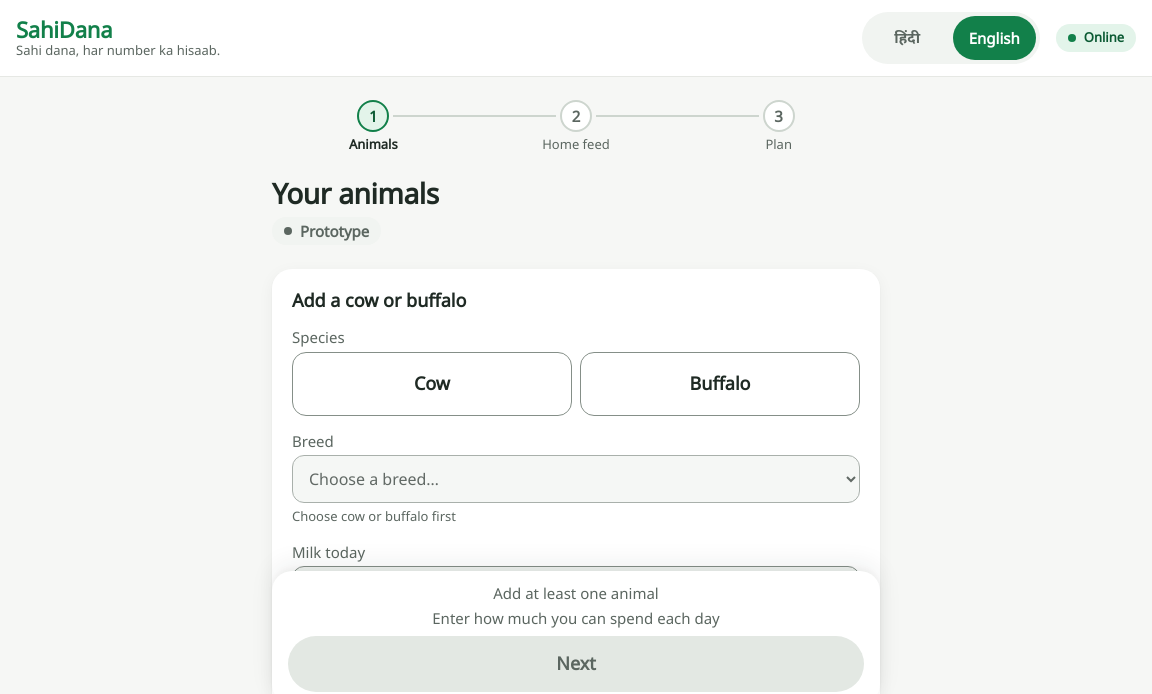
Test: herdUi (Change 4 Milestone 1 UI and 3-screen flow) › Screen 1 gating lines and Next button › shows only budget gating reason when animal is added but budget is missing
// Add buffalo: select species, breed, enter milk, submit
Step 1. Click the button "Buffalo" → (720, 384), box [580,352,860,416]
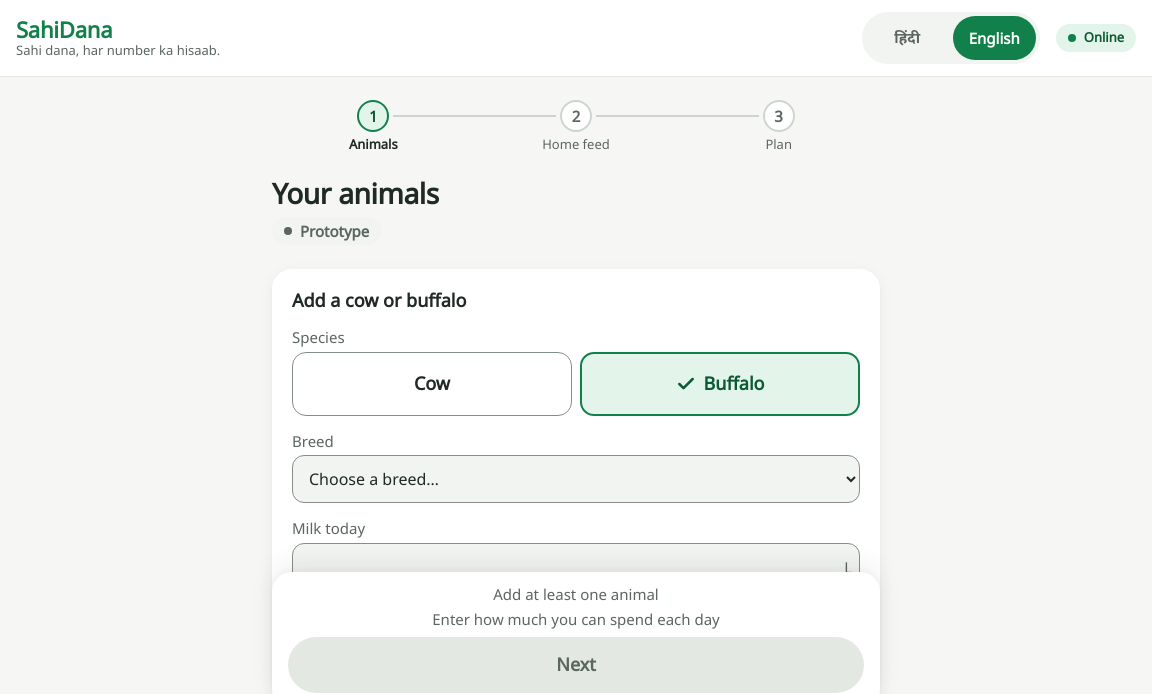
Step 2. Select "Murrah" in the dropdown labelled "Breed" → (576, 480), box [292,456,860,504]
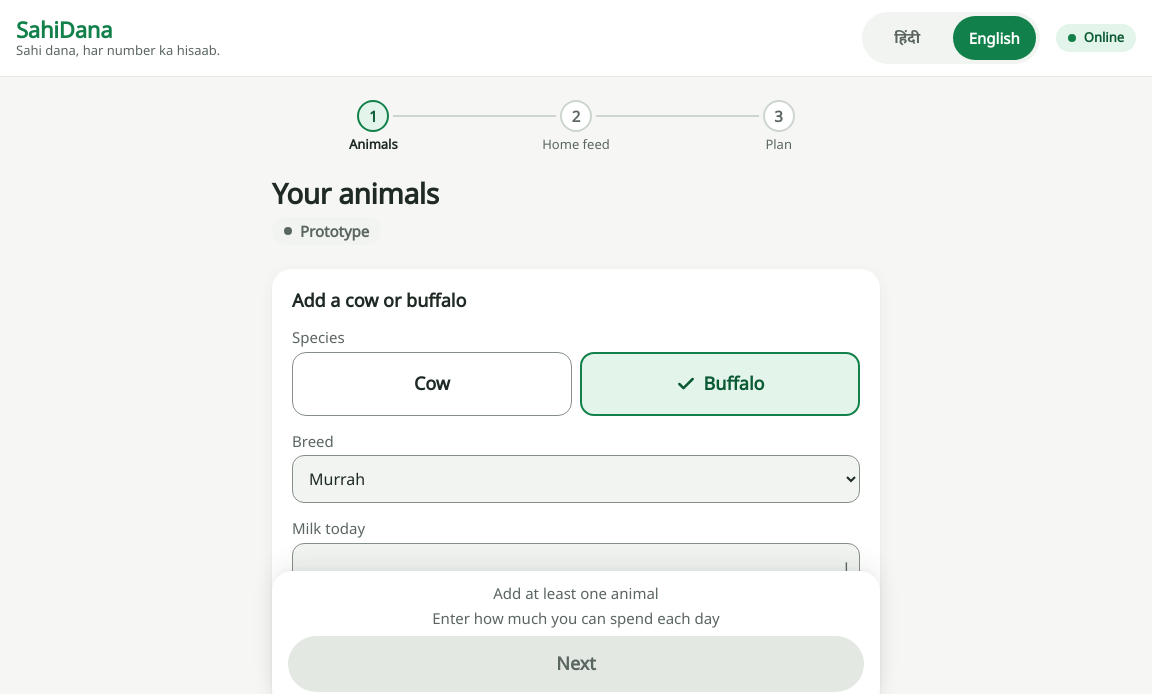
Step 3. Type "8" into the field labelled "Milk today" → (576, 567), box [292,543,860,591]
(page scrolled)
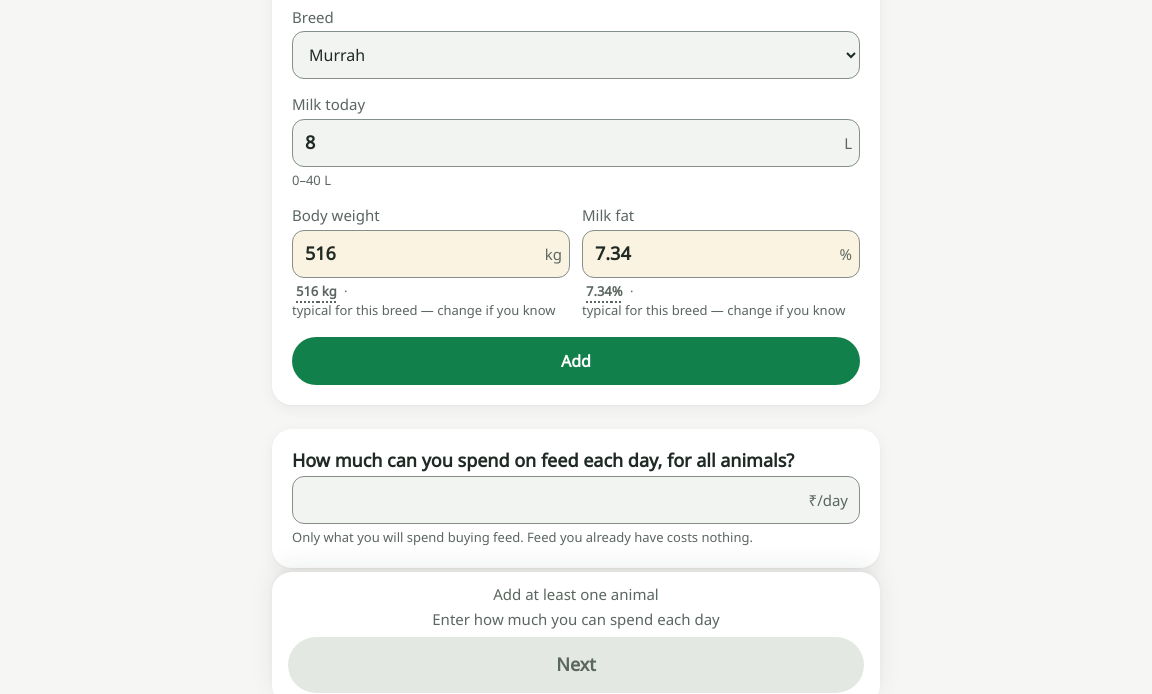
Step 4. Click the button "Add" → (576, 361), box [292,337,860,385]
(page scrolled)
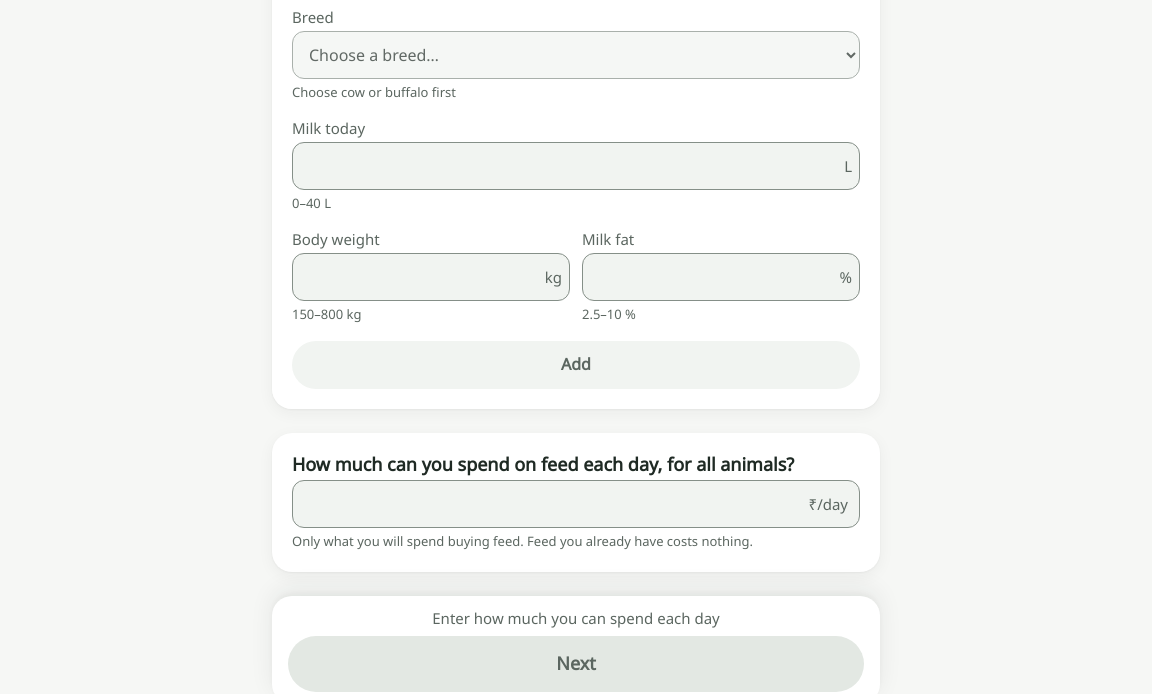
Expected: the button "Next" is disabled, [288,636,864,692]
Result: the text "Add at least one animal" is gone
